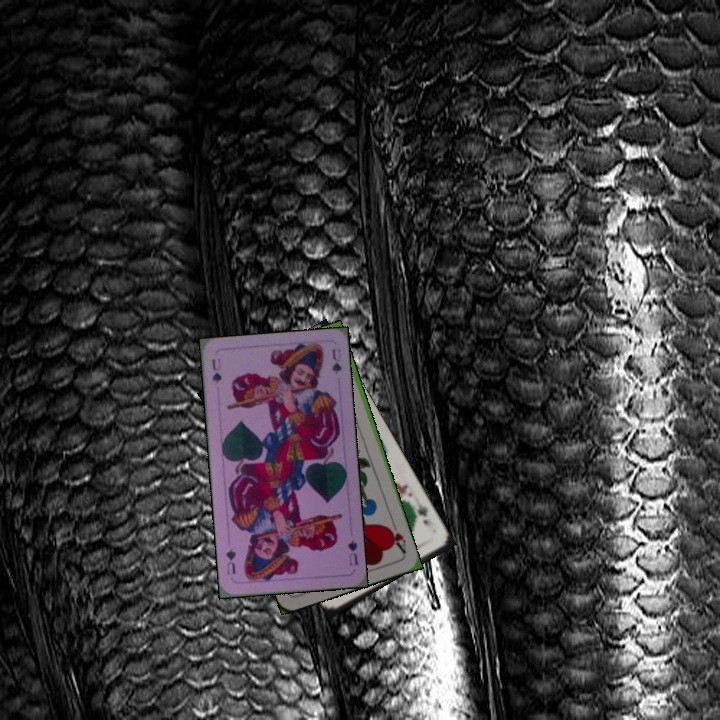GK: (408, 500, 434, 529)
GU: (344, 536, 361, 568), (208, 354, 224, 386)
HA: (383, 518, 409, 557)
